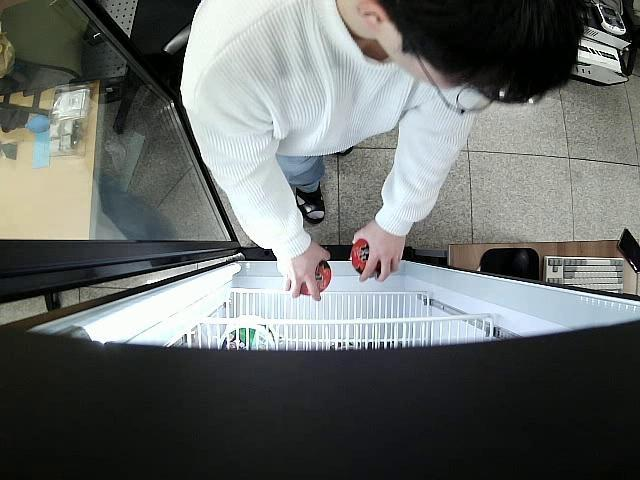02_shinRamen_S: (351, 240, 382, 278), (300, 259, 330, 296)
